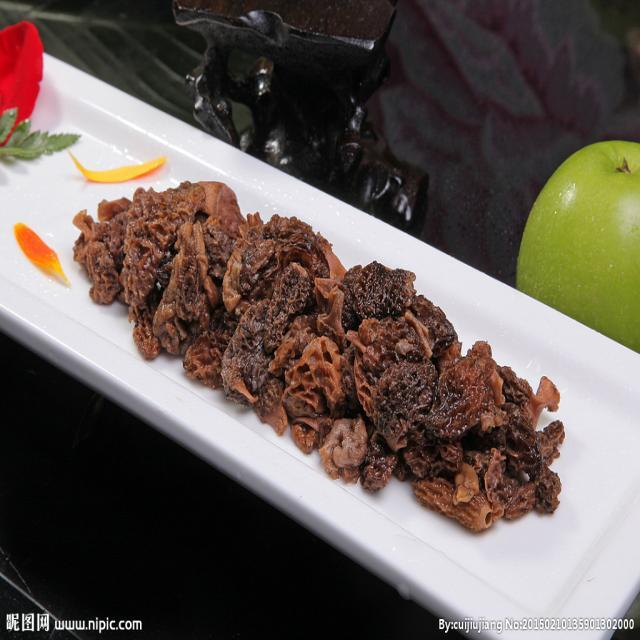Morchella esculenta: (77, 175, 564, 531)
